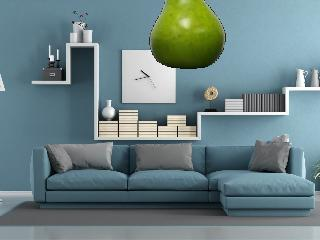pear: (148, 0, 226, 69)
